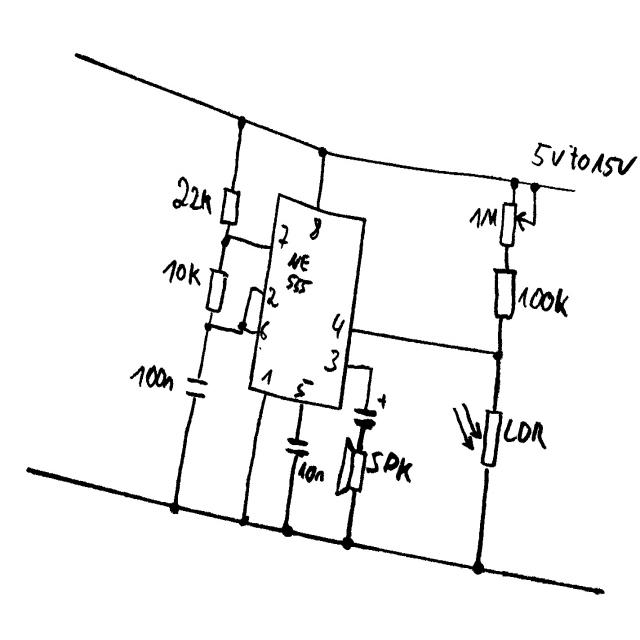capacitor: (354, 393, 387, 430), (185, 374, 209, 403), (284, 435, 310, 458)
junction: (471, 560, 485, 576), (341, 536, 354, 551), (280, 524, 293, 539), (237, 320, 248, 336), (220, 233, 231, 248), (237, 115, 247, 131), (529, 181, 541, 194), (169, 502, 181, 515), (510, 176, 520, 191), (238, 515, 250, 527), (318, 146, 328, 160), (492, 350, 503, 361), (204, 321, 213, 332), (249, 284, 256, 295), (368, 365, 374, 374)
resistor: (452, 402, 504, 471), (498, 200, 538, 250), (492, 266, 517, 323), (205, 268, 229, 314), (219, 187, 241, 227)
terminal: (23, 464, 36, 478), (73, 50, 83, 62), (597, 586, 607, 596), (570, 186, 578, 195)
text: (531, 142, 638, 178), (517, 286, 570, 319), (172, 176, 213, 216), (364, 451, 413, 483), (503, 418, 547, 450), (129, 364, 175, 393), (285, 252, 314, 296), (162, 259, 202, 287), (469, 207, 498, 230), (298, 461, 325, 483), (293, 377, 314, 401), (331, 313, 346, 340), (323, 349, 340, 372), (309, 217, 322, 240), (266, 286, 279, 309), (278, 223, 289, 250), (259, 320, 271, 341), (261, 368, 273, 386)
